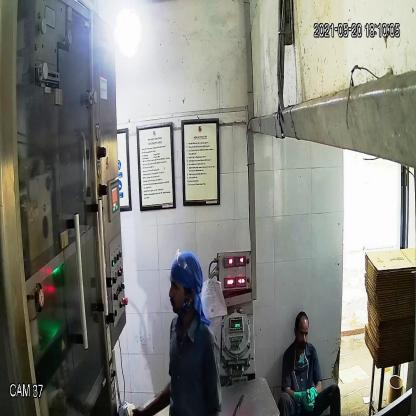no_goggles: (167, 276, 190, 299), (292, 324, 310, 342)
